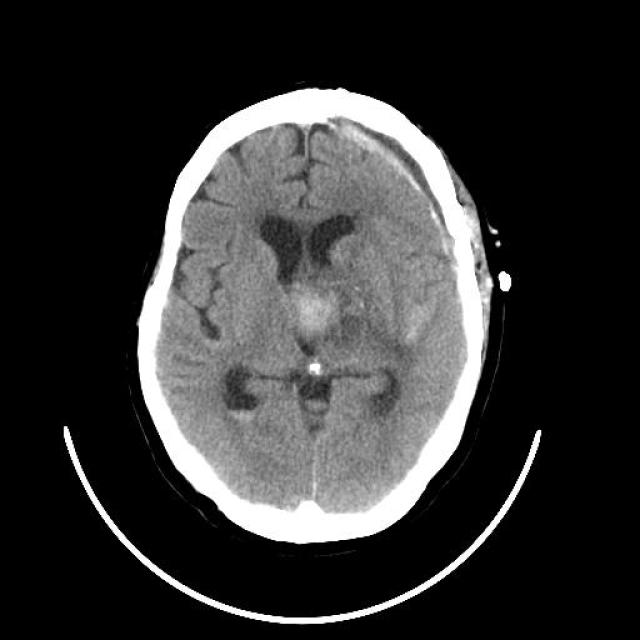Intraparenchymal: (270, 268, 382, 352)
Intraventricular: (220, 390, 264, 445)
Subdural: (332, 115, 472, 264)
